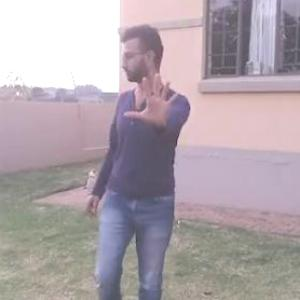follow_hand: (123, 70, 186, 130)
